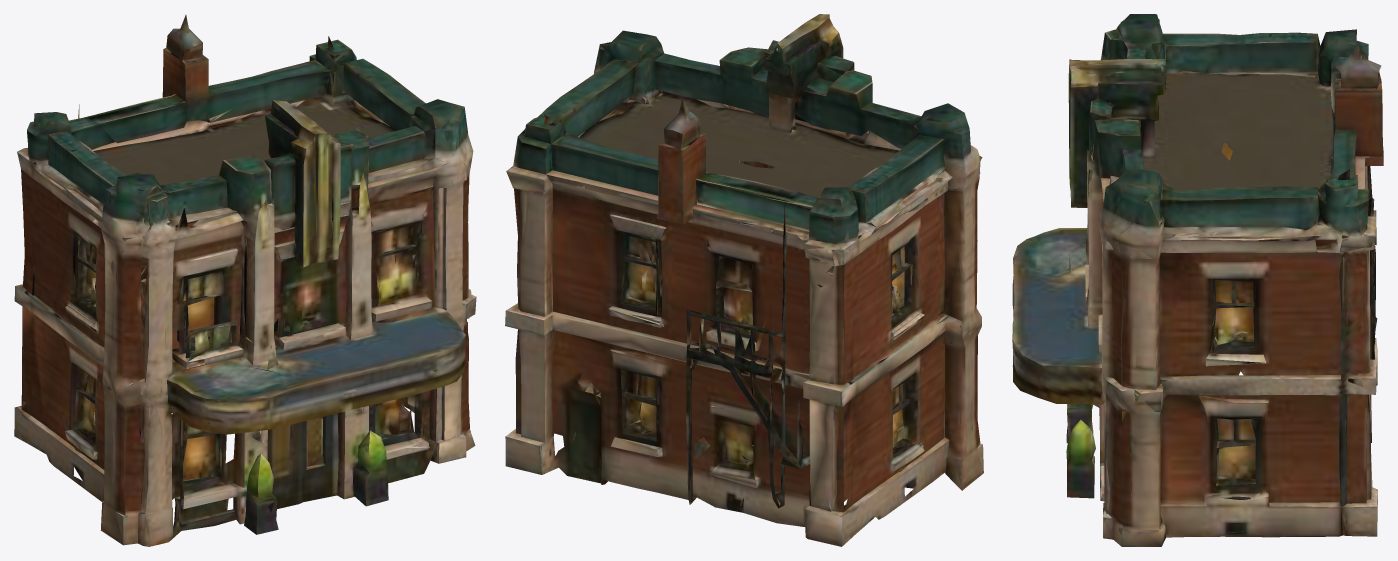
The model's file is hotel_2.glb.
3 renders of one model, left to right at view 1: azimuth 30°, elevation 25°; view 2: azimuth 150°, elevation 25°; view 3: azimuth 270°, elevation 25°, orthographic. The views are drawn at different scales.
Visible parts, largest first — view 1: expansion__hotel_2__neural_lod; view 2: expansion__hotel_2__neural_lod; view 3: expansion__hotel_2__neural_lod.
Boxes of the visible parts, x1,y1,x2,y2 form: expansion__hotel_2__neural_lod: (14, 15, 476, 546); expansion__hotel_2__neural_lod: (505, 14, 983, 546); expansion__hotel_2__neural_lod: (1012, 14, 1383, 546).
Size of the model in its own units: 0.9252 by 0.9881 by 0.7804.
1 material, 1 textured.
